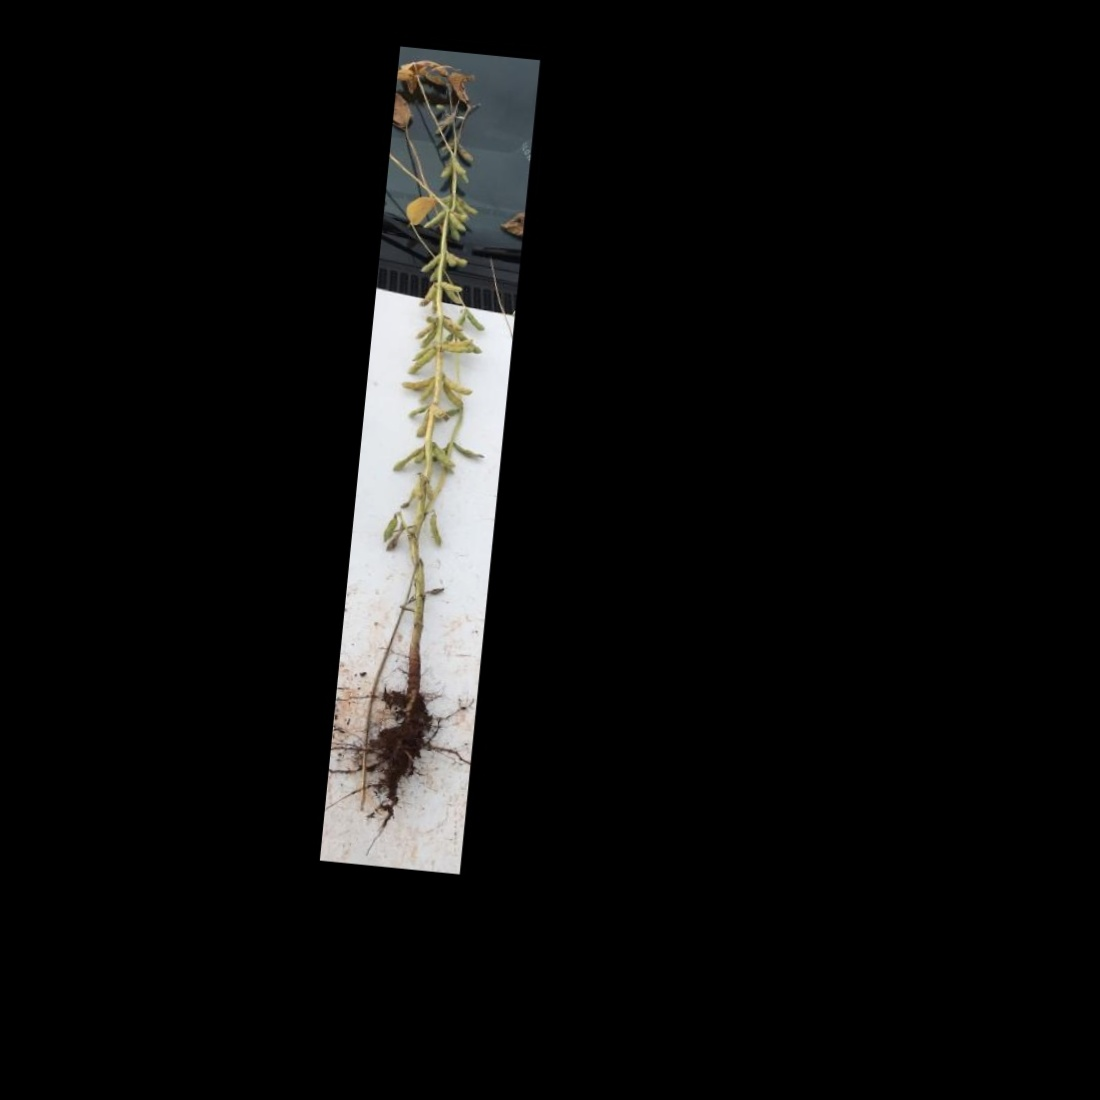pod: (420, 507, 449, 551), (451, 440, 488, 463), (372, 514, 399, 544), (418, 207, 448, 234), (438, 383, 468, 410), (414, 281, 438, 309), (465, 309, 489, 333), (419, 251, 442, 275), (455, 140, 477, 163), (412, 413, 430, 439), (405, 403, 430, 418), (439, 279, 465, 293), (420, 380, 435, 403)
soy: (331, 70, 535, 835)
